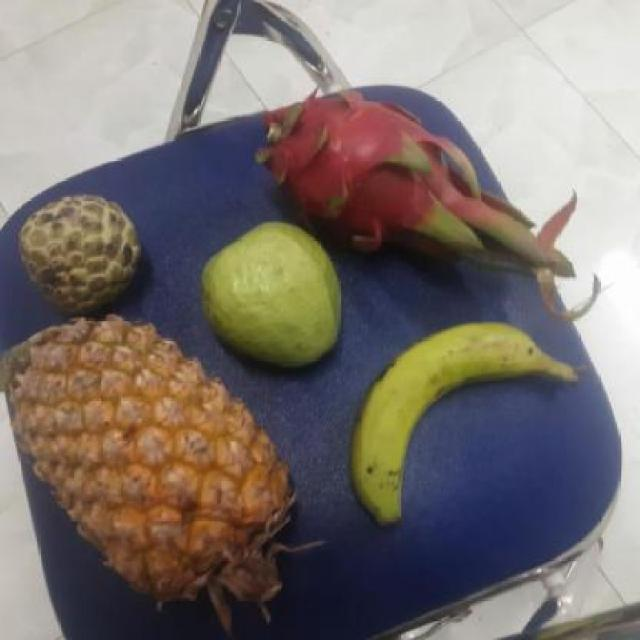banana: (352, 322, 570, 513)
dragon fruit: (266, 87, 460, 258)
guava: (200, 223, 346, 368)
pineapple: (18, 326, 302, 594)
sugar apple: (19, 196, 150, 316)
